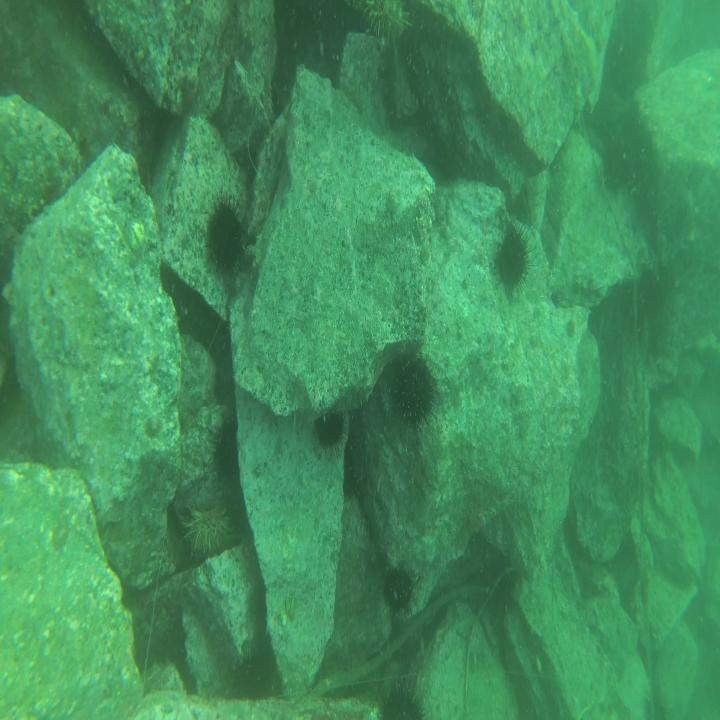echinus: (210, 185, 248, 273), (498, 215, 534, 296), (182, 507, 239, 555), (394, 360, 431, 427), (362, 0, 411, 45), (601, 140, 632, 200), (377, 686, 426, 720), (383, 570, 416, 613), (212, 419, 237, 471), (311, 409, 346, 446)
